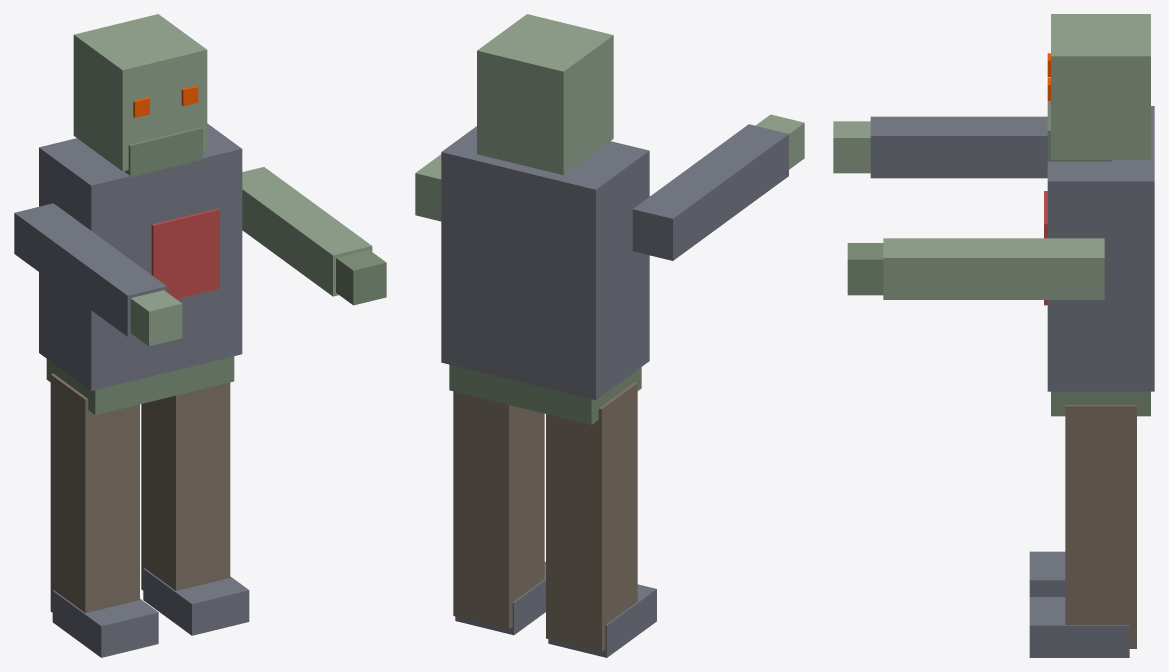
The model's file is zombie.glb.
The picture shows the model from 3 angles, left to right: view 1: azimuth 30°, elevation 25°; view 2: azimuth 150°, elevation 25°; view 3: azimuth 270°, elevation 25°; orthographic projection. The views are drawn at different scales.
Parts seen in each view (by area): view 1: torso, pierna_izq, pierna_der, cabeza, brazo_izq, brazo_der, sangre_pecho, pie_izq, pie_der, cintura, mandibula, mano_izq (+1 smaller); view 2: torso, pierna_izq, pierna_der, cabeza, brazo_izq, cintura, pie_izq, pie_der, brazo_der, mano_izq; view 3: torso, pierna_der, cabeza, brazo_der, brazo_izq, pie_der, mano_izq, mano_der, cintura, pie_izq.
Boxes of the visible parts, left/top/right/bottom form: torso: left=39, top=123, right=242, bottom=390; pierna_izq: left=50, top=373, right=139, bottom=612; pierna_der: left=141, top=382, right=230, bottom=590; cabeza: left=73, top=14, right=207, bottom=171; brazo_izq: left=14, top=203, right=166, bottom=336; brazo_der: left=242, top=167, right=372, bottom=296; sangre_pecho: left=151, top=208, right=219, bottom=299; pie_izq: left=52, top=590, right=158, bottom=657; pie_der: left=143, top=568, right=249, bottom=635; cintura: left=46, top=356, right=234, bottom=415; mandibula: left=124, top=127, right=202, bottom=177; mano_izq: left=130, top=290, right=182, bottom=346; torso: left=441, top=126, right=649, bottom=400; pierna_izq: left=546, top=382, right=637, bottom=651; pierna_der: left=453, top=391, right=544, bottom=629; cabeza: left=477, top=14, right=613, bottom=175; brazo_izq: left=632, top=124, right=788, bottom=260; cintura: left=449, top=364, right=641, bottom=424; pie_izq: left=548, top=584, right=656, bottom=657; pie_der: left=455, top=561, right=545, bottom=635; brazo_der: left=415, top=154, right=441, bottom=221; mano_izq: left=755, top=114, right=804, bottom=169; torso: left=1047, top=106, right=1154, bottom=391; pierna_der: left=1065, top=405, right=1136, bottom=648; cabeza: left=1051, top=14, right=1150, bottom=159; brazo_der: left=883, top=238, right=1104, bottom=299; brazo_izq: left=870, top=116, right=1047, bottom=178; pie_der: left=1029, top=597, right=1129, bottom=657; mano_izq: left=833, top=121, right=870, bottom=173; mano_der: left=847, top=243, right=883, bottom=295; cintura: left=1051, top=391, right=1150, bottom=416; pie_izq: left=1029, top=551, right=1065, bottom=596.
Bounding box in the file's own units: 0.83 × 1.81 × 0.9.
